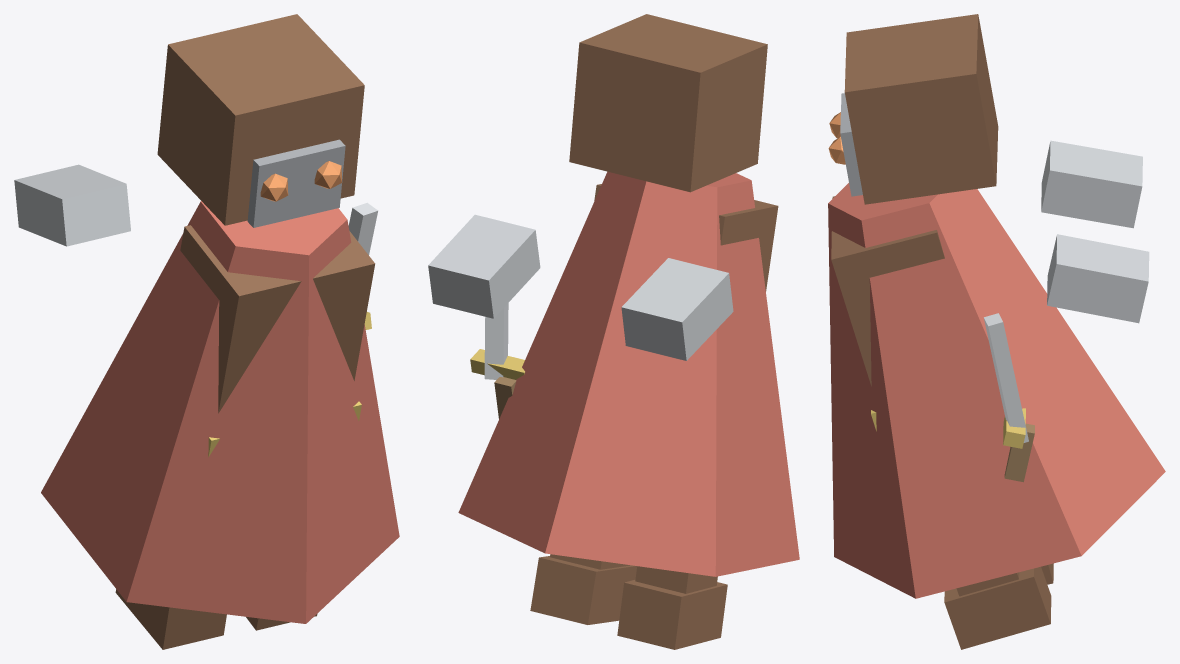
Rendered from npcpose_raider_idle_08.glb.
3 views of the same model, side by side, from view 1: azimuth 30°, elevation 25°; view 2: azimuth 150°, elevation 25°; view 3: azimuth 270°, elevation 25° (orthographic). The views are drawn at different scales.
Parts seen in each view (by area): view 1: npcpose; view 2: npcpose; view 3: npcpose.
Boxes of the visible parts, left/top/right/bottom form: npcpose: left=14, top=14, right=399, bottom=649; npcpose: left=428, top=14, right=799, bottom=649; npcpose: left=828, top=14, right=1165, bottom=649.
Bounding box in the file's own units: 0.8134 × 1.61 × 0.8611.
